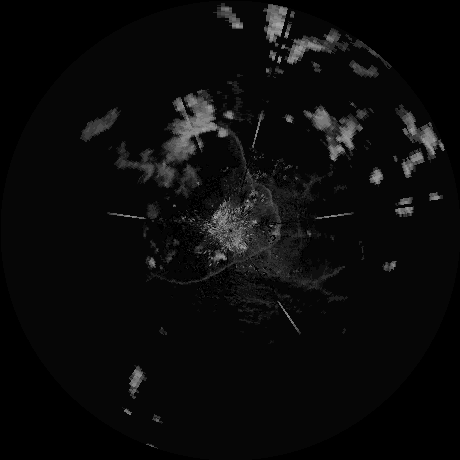frontgust: (159, 238, 278, 284), (231, 132, 279, 229)
